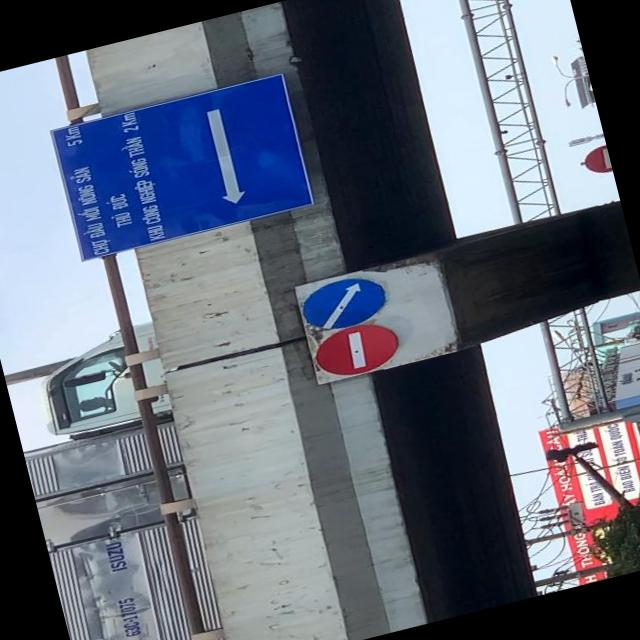P-102: (308, 318, 402, 380)
R-302a: (296, 270, 390, 340)
